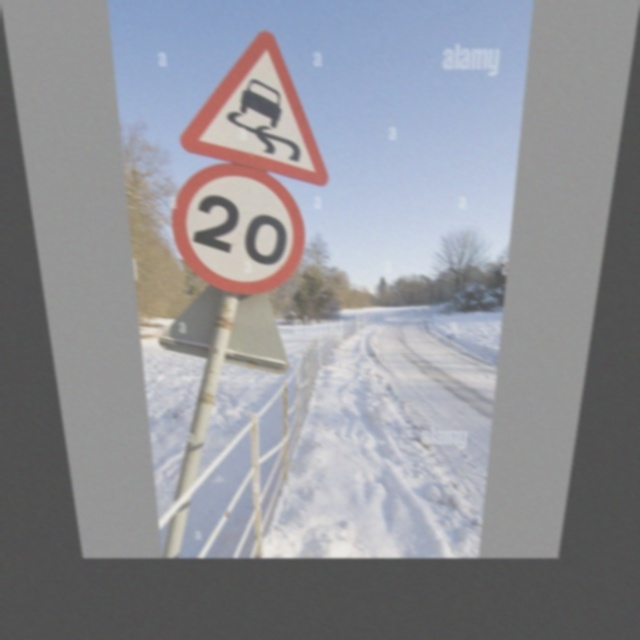Slippery_Road: (174, 31, 334, 176)
